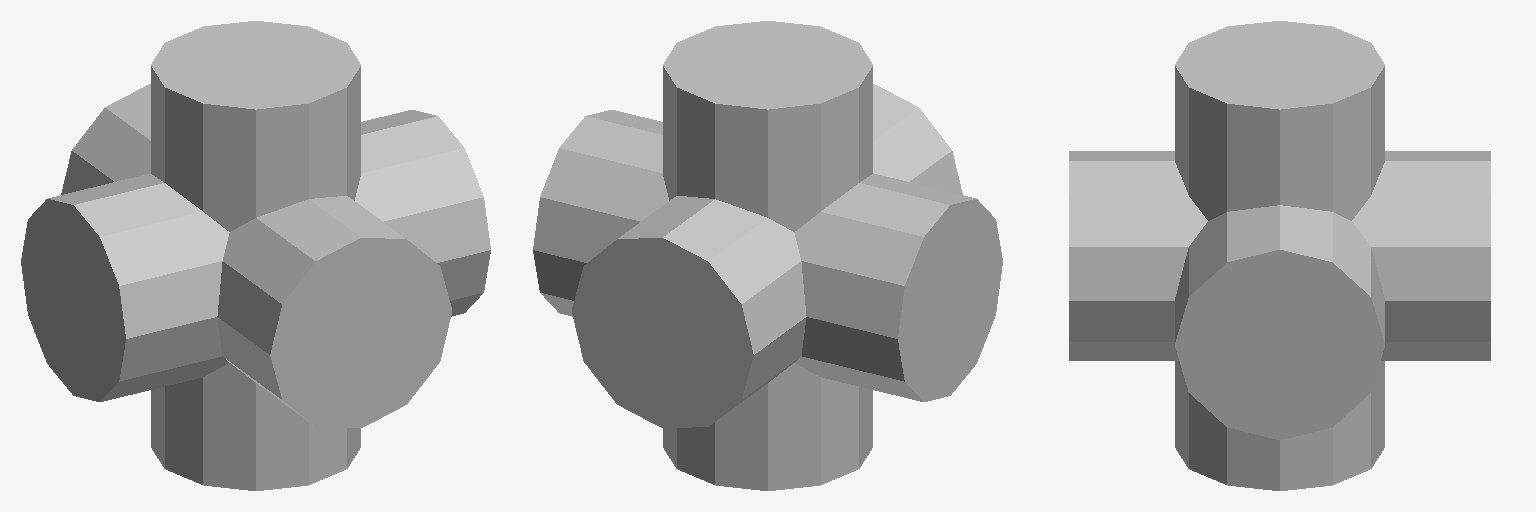
File: rubik_center.obj
The picture shows the model from 3 angles: view 1: azimuth 30°, elevation 25°; view 2: azimuth 150°, elevation 25°; view 3: azimuth 270°, elevation 25°; orthographic projection.
Size of the model in its own units: 1.8 by 1.8 by 1.8.